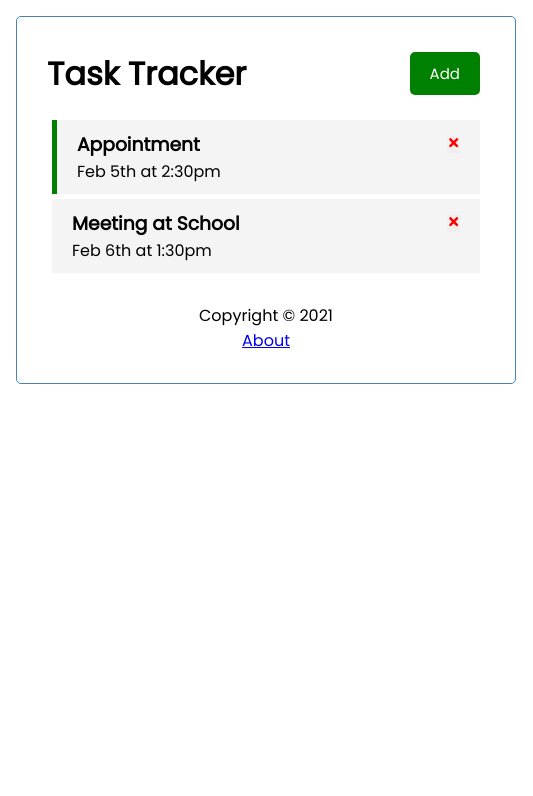
task creation
Click the button with test id "header-button" at point(445, 74), box [410,52,480,95]
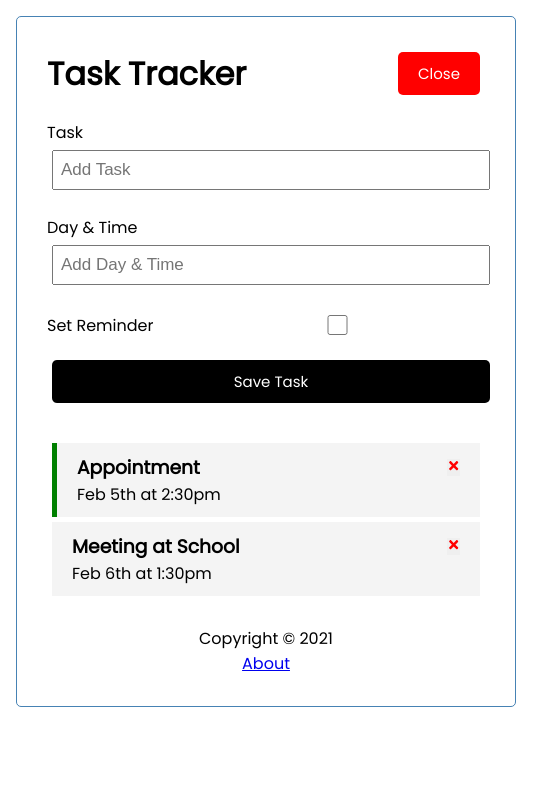
Type "Visit dentist" into the field with test id "task-text-input" at point(271, 170), box [52,150,490,190]
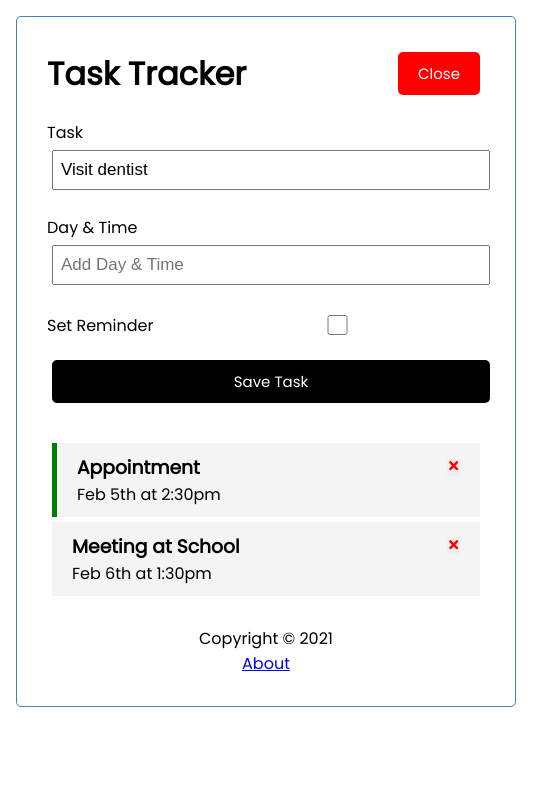
Type "Feb 9th at 1:30pm" into the field with test id "task-day-time-input" at point(271, 265), box [52,245,490,285]
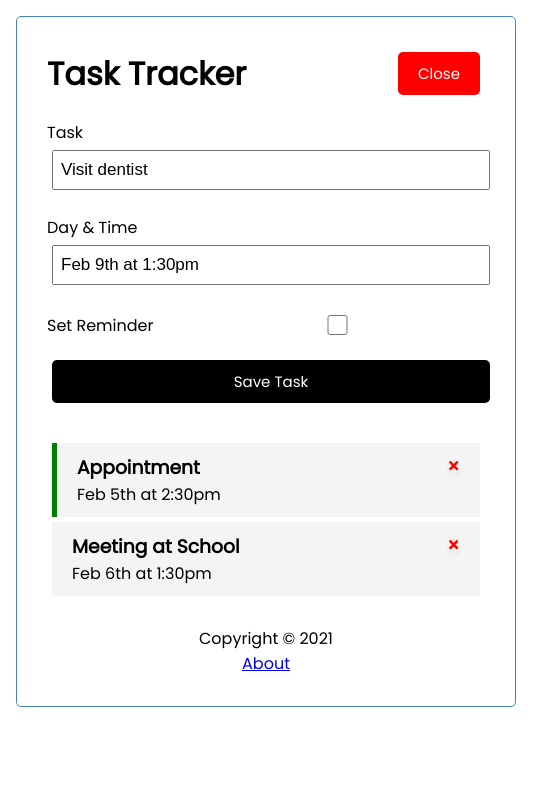
Click the checkbox with test id "task-reminder-input" at point(337, 325), box [195,315,480,335]
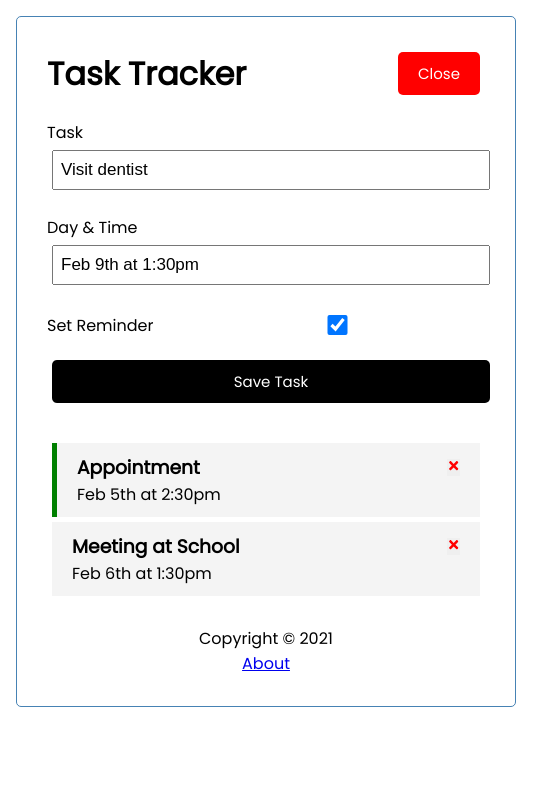
Click the button with test id "add-task-submit-button" at point(271, 382), box [52,360,490,403]
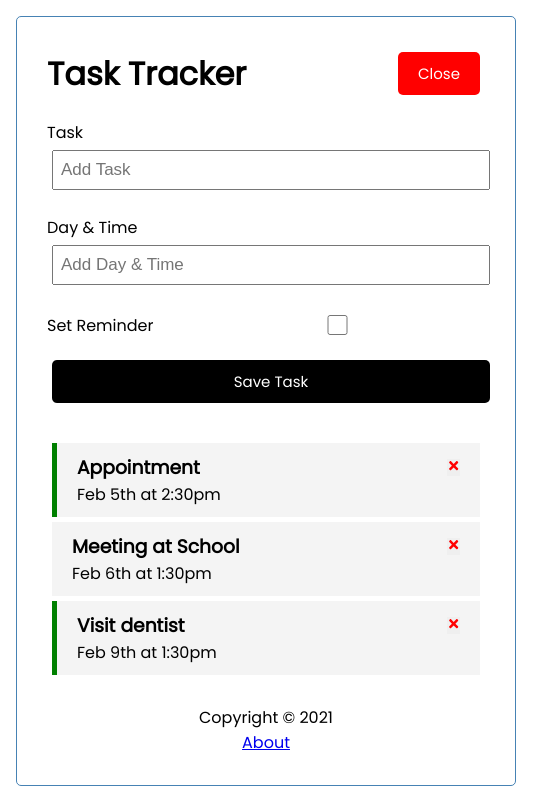
Expected: the heading "Visit dentist" is shown, [77,611,460,640]
Expected: the text "Feb 9th at 1:30pm" is shown, [77,641,217,664]
